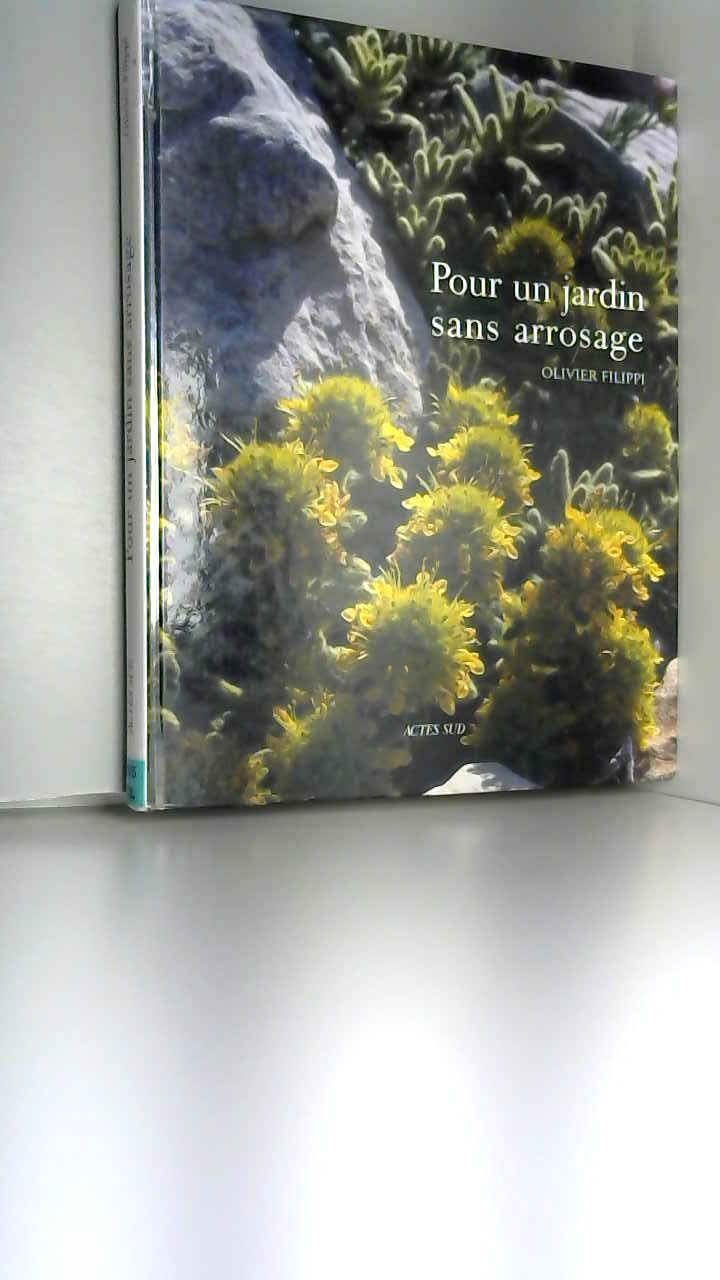book: (80, 0, 716, 841)
